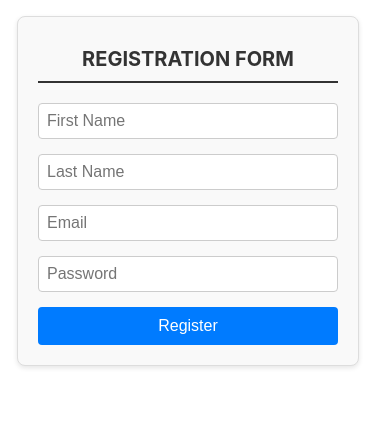
Test case: UserForm › when form is valid should enable register button
Type "John" into the field with placeholder "First Name".
click(188, 121); type("John")  # box [38,103,338,139]
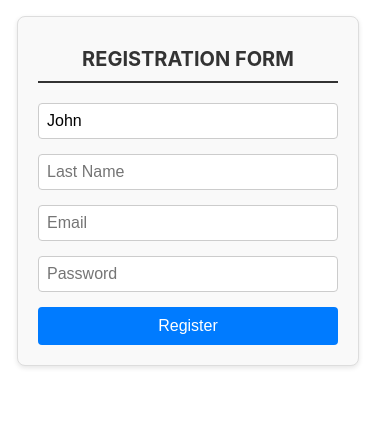
Type "Smith" into the field with placeholder "Last Name".
click(188, 172); type("Smith")  # box [38,154,338,190]
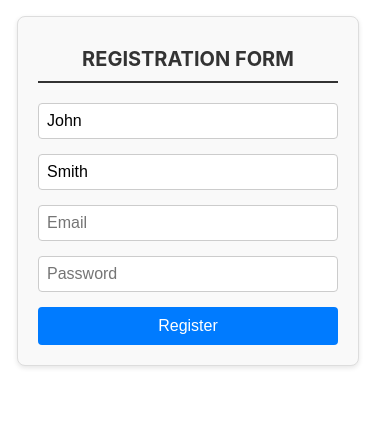
Type "jon.smith@test.com" into the field with placeholder "Email".
click(188, 223); type("jon.smith@test.com")  # box [38,205,338,241]
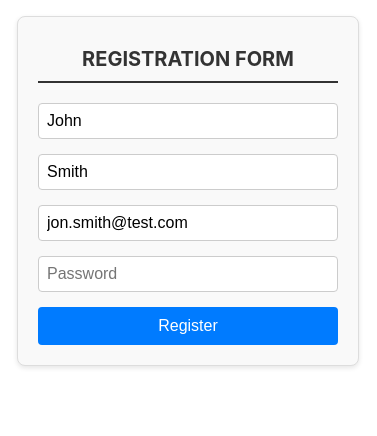
Type "SEC123" into the password field with placeholder "Password".
click(188, 274); type("SEC123")  # box [38,256,338,292]
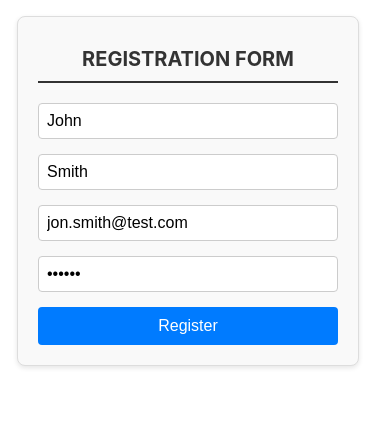
Click the button "Register".
click(188, 326)  # box [38,307,338,345]
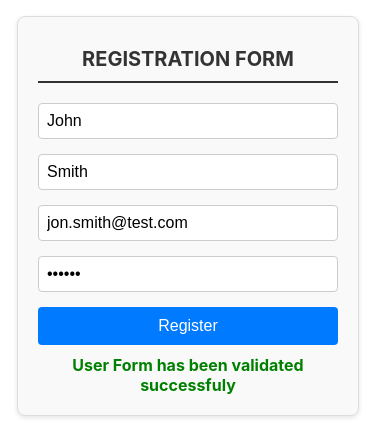
Expected: the text "User Form has been validated successfuly" is shown, [72,355,304,395]
